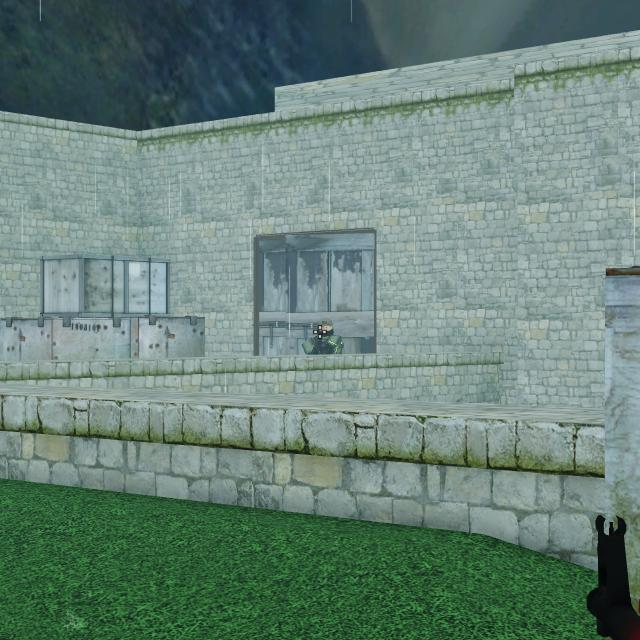Head: (317, 320, 334, 335)
Player: (302, 319, 343, 354)
